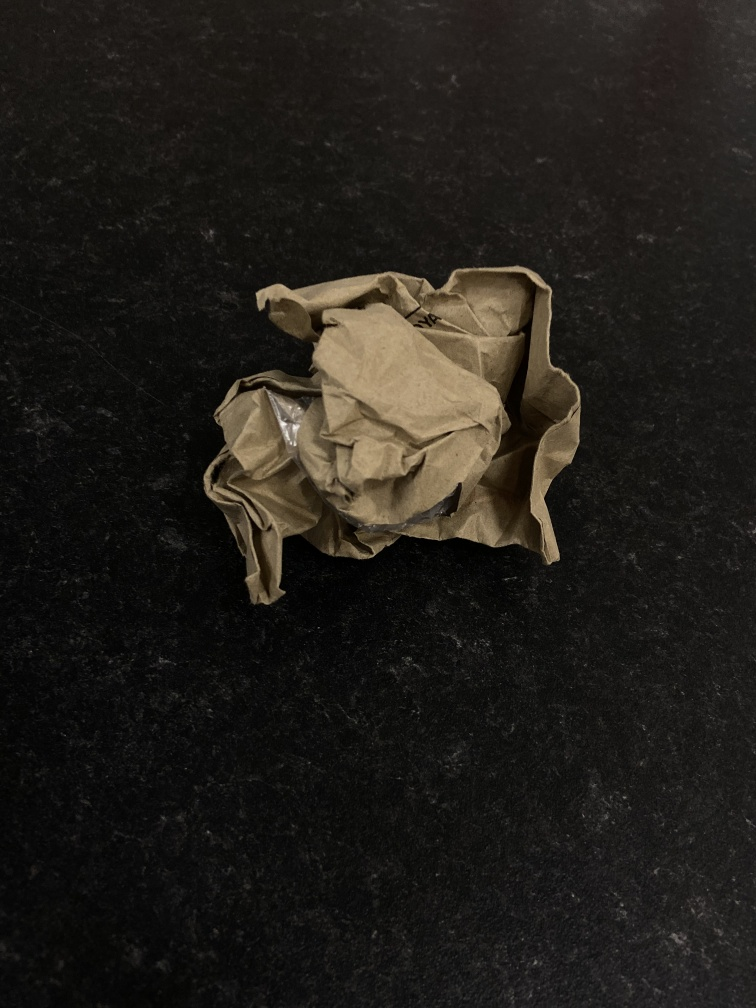paper_brown: (195, 256, 584, 612)
